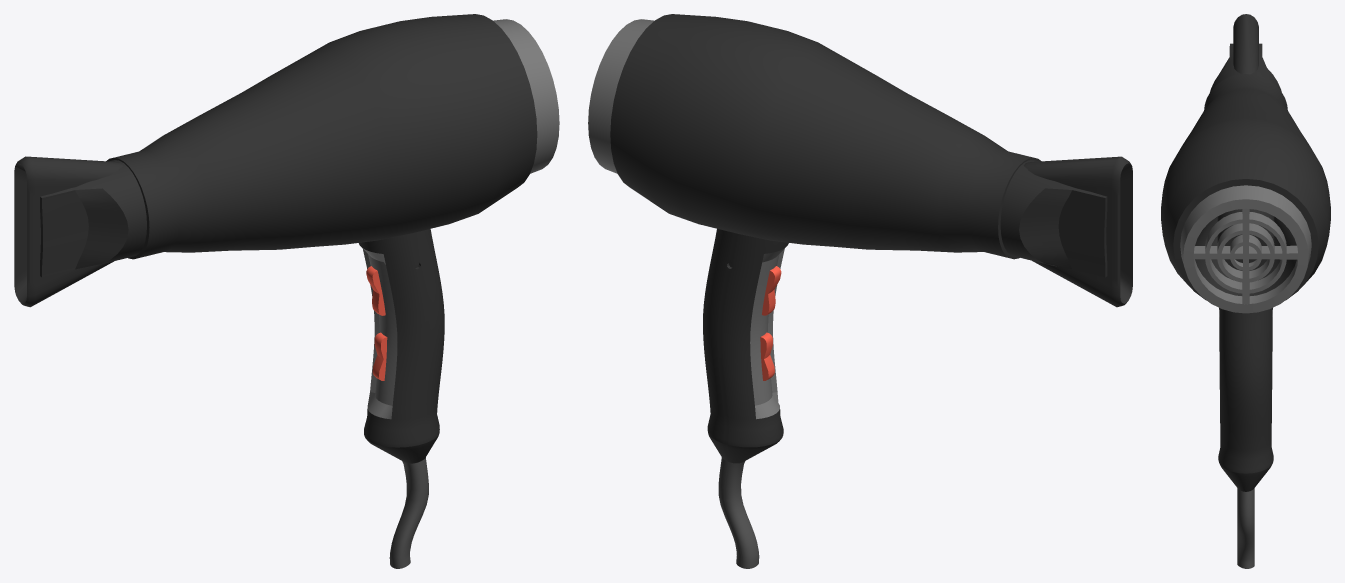
Rendered from hair_dryer.glb.
The picture shows the model from 3 angles, left to right: view 1: azimuth 30°, elevation 25°; view 2: azimuth 150°, elevation 25°; view 3: azimuth 270°, elevation 25°; orthographic projection. The views are drawn at different scales.
Visible parts, largest first — view 1: Cylinder.001, Cylinder, Cylinder.002, Cube; view 2: Cylinder.001, Cylinder, Cylinder.002, Cube; view 3: Cylinder.001, Cylinder, Cube, Cylinder.002.
Part boxes in pixels (x1=…): Cylinder.001: x1=106, y1=14, x2=559, y2=259; Cylinder: x1=359, y1=229, x2=444, y2=568; Cylinder.002: x1=40, y1=160, x2=146, y2=277; Cube: x1=14, y1=156, x2=123, y2=307; Cylinder.001: x1=588, y1=14, x2=1041, y2=259; Cylinder: x1=703, y1=228, x2=788, y2=568; Cylinder.002: x1=1000, y1=159, x2=1107, y2=277; Cube: x1=1024, y1=156, x2=1132, y2=307; Cylinder.001: x1=1161, y1=74, x2=1330, y2=313; Cylinder: x1=1218, y1=308, x2=1273, y2=568; Cube: x1=1233, y1=14, x2=1258, y2=74; Cylinder.002: x1=1210, y1=43, x2=1281, y2=91.
Size of the model in its own units: 2.85 by 2.89 by 1.03.
Materials: 6 (6 with a texture image).
